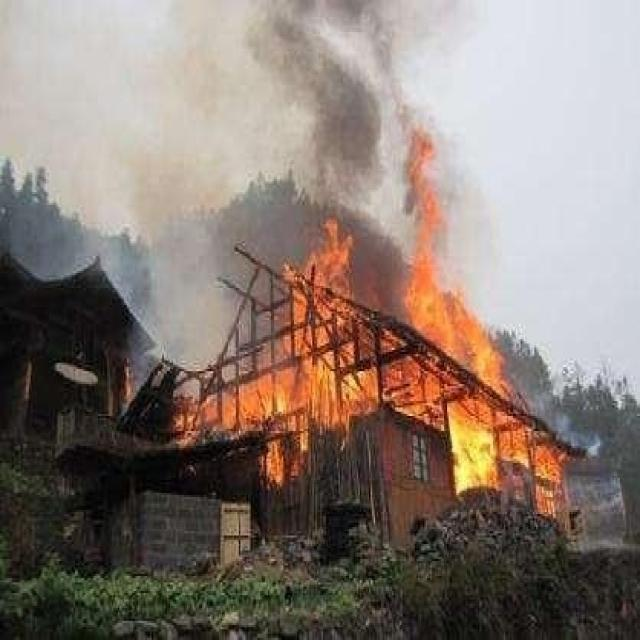Fire: (173, 137, 565, 520)
Smoke: (2, 2, 454, 397), (526, 376, 602, 458)
